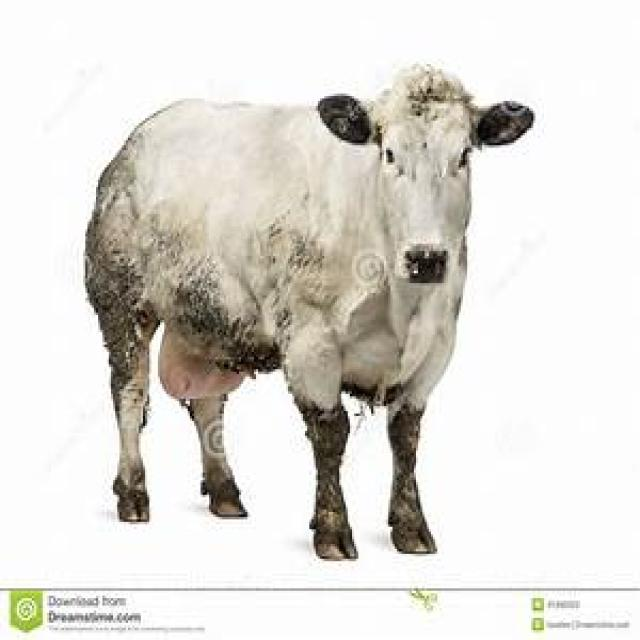animal: (84, 70, 535, 554)
